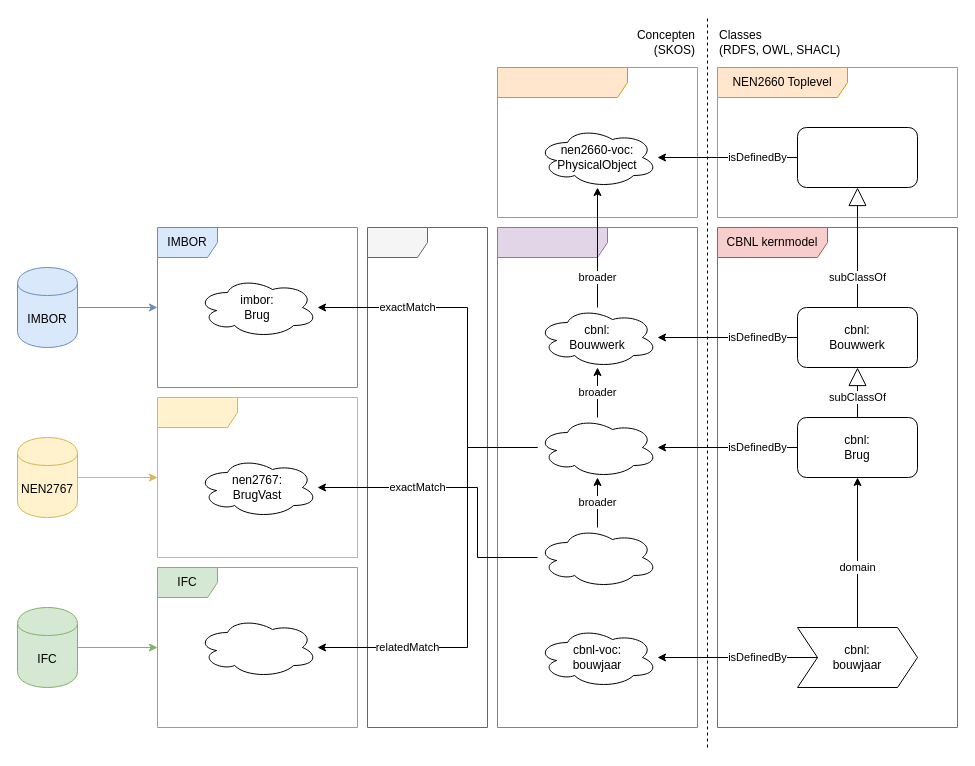
The diagram is 975 pixels wide and 766 high, and some of its shapes have lost their labels. The shapes that lost their labels are listed below. From the top down, each one's box as (x1, y1, x2, y2) in pixels, then its label:
(496, 66, 698, 218): NEN2660 Thesaurus
(796, 126, 918, 188): nen2660: PhysicalObject
(536, 416, 658, 478): cbnl-voc: Brug
(156, 396, 358, 558): NEN2767-4
(366, 226, 488, 728): linksets
(496, 226, 698, 728): CBNL Thesaurus
(536, 526, 658, 588): cbnl-voc: BrugVast
(196, 616, 318, 678): ifc: Brug
